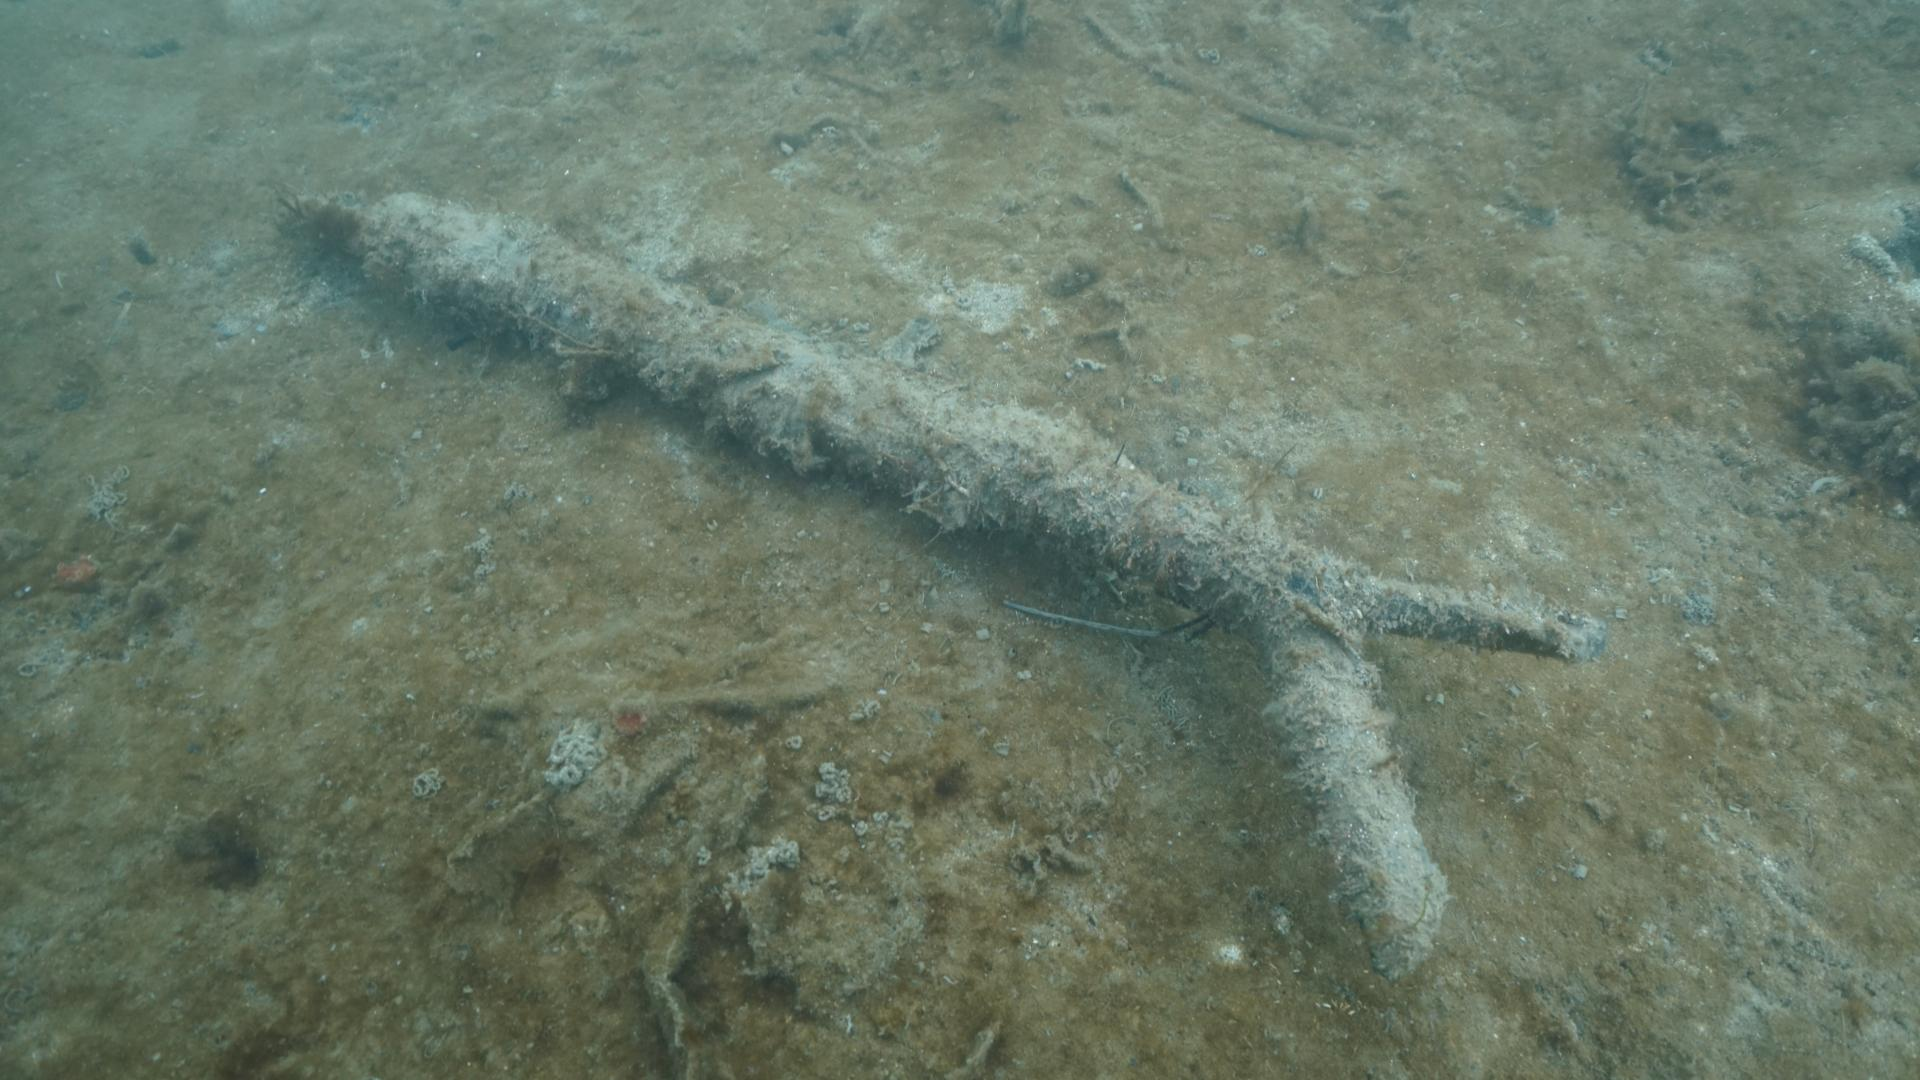wood: (269, 189, 1606, 982)
